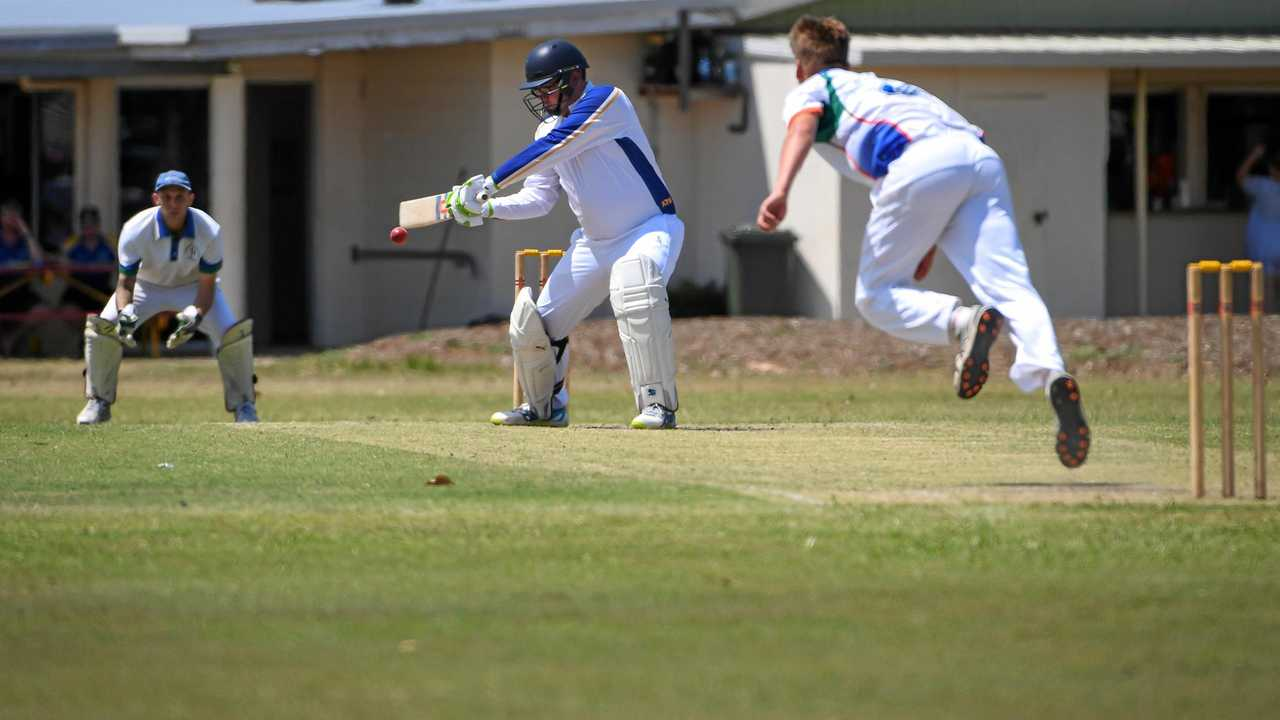Cutshot: (320, 6, 730, 473)
